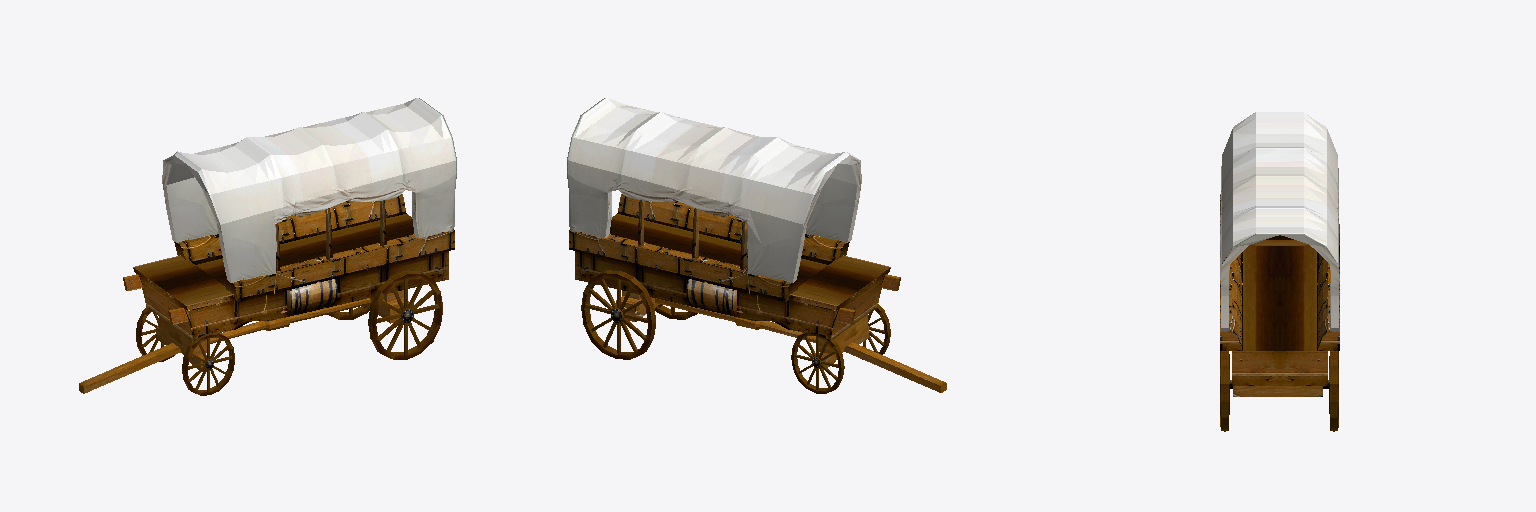
3 views of the same model, side by side, from view 1: azimuth 30°, elevation 25°; view 2: azimuth 150°, elevation 25°; view 3: azimuth 270°, elevation 25° (orthographic).
Parts seen in each view (by area): view 1: wagon2, WHEEL, wagon; view 2: wagon2, WHEEL, wagon; view 3: wagon2, WHEEL, wagon.
Boxes of the visible parts, box(x1,y1,x2,y2) form: wagon2: box(123, 98, 456, 340); WHEEL: box(136, 271, 442, 395); wagon: box(79, 290, 408, 393); wagon2: box(567, 98, 900, 340); WHEEL: box(581, 270, 890, 393); wagon: box(616, 291, 946, 392); wagon2: box(1220, 112, 1339, 385); WHEEL: box(1220, 351, 1338, 431); wagon: box(1233, 386, 1322, 396).
Bounding box in the file's own units: 9.31 × 5.68 × 2.78.
1 materials, 1 textured.